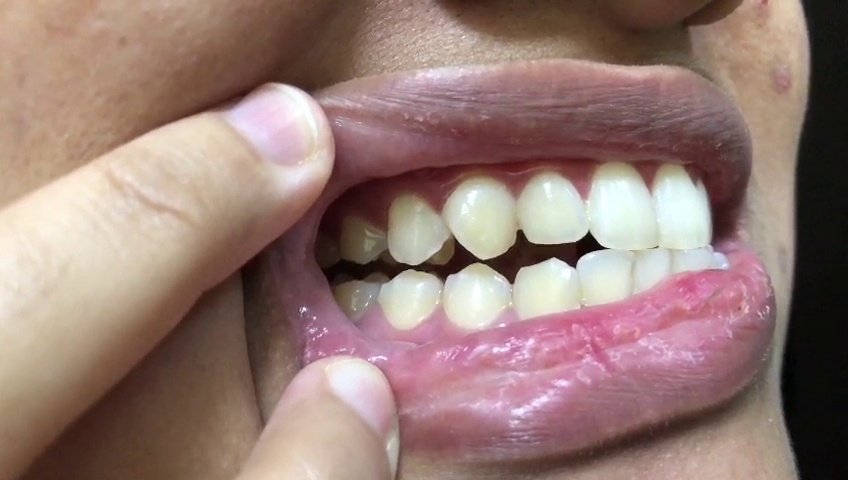1st Molar: (332, 275, 378, 322)
1st Premolar: (387, 191, 451, 265), (446, 263, 513, 330)
2nd Premolar: (379, 270, 443, 329), (339, 212, 387, 266)
Canine: (441, 173, 515, 259), (513, 257, 578, 319)
Central Incisor: (588, 160, 660, 250), (651, 160, 711, 249)
Lateral Incisor: (517, 167, 590, 243), (577, 249, 636, 307)
